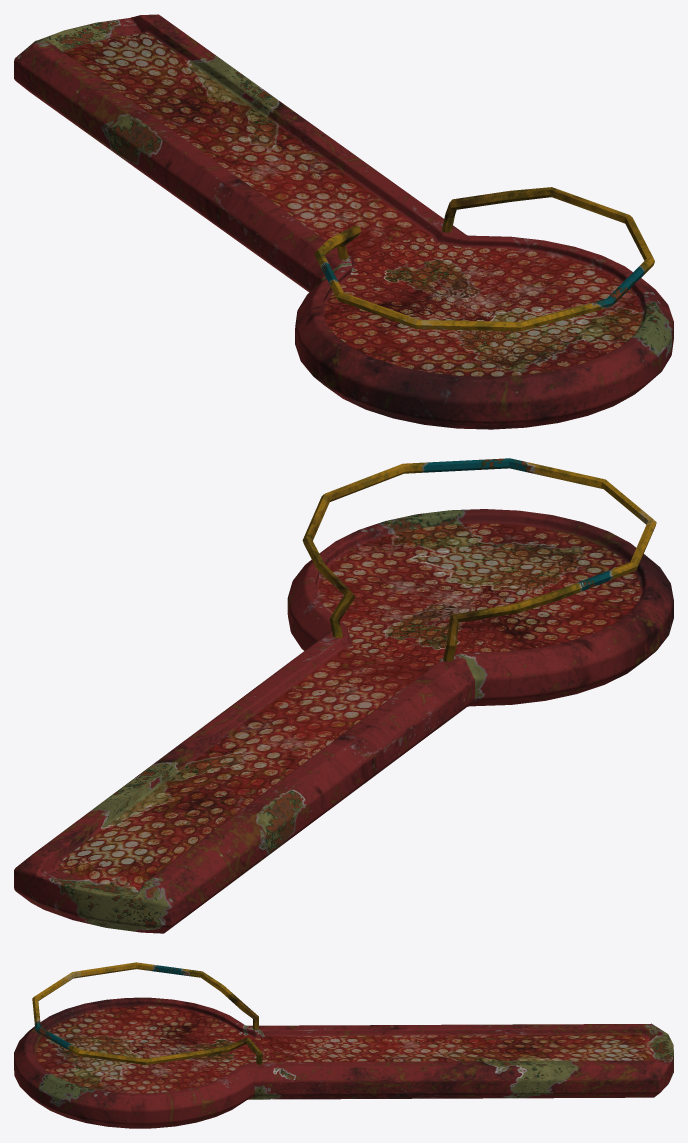
Rendered from bridge.fbx.
The picture shows the model from 3 angles, top to bottom: view 1: azimuth 30°, elevation 25°; view 2: azimuth 150°, elevation 25°; view 3: azimuth 270°, elevation 25°; orthographic projection. The views are drawn at different scales.
Visible parts, largest first — view 1: Plane.001; view 2: Plane.001; view 3: Plane.001.
Boxes of the visible parts, x1,y1,x2,y2 form: Plane.001: (14, 14, 673, 429); Plane.001: (14, 458, 673, 933); Plane.001: (14, 962, 673, 1128).
Bounding box in the file's own units: 332 × 100 × 867.
